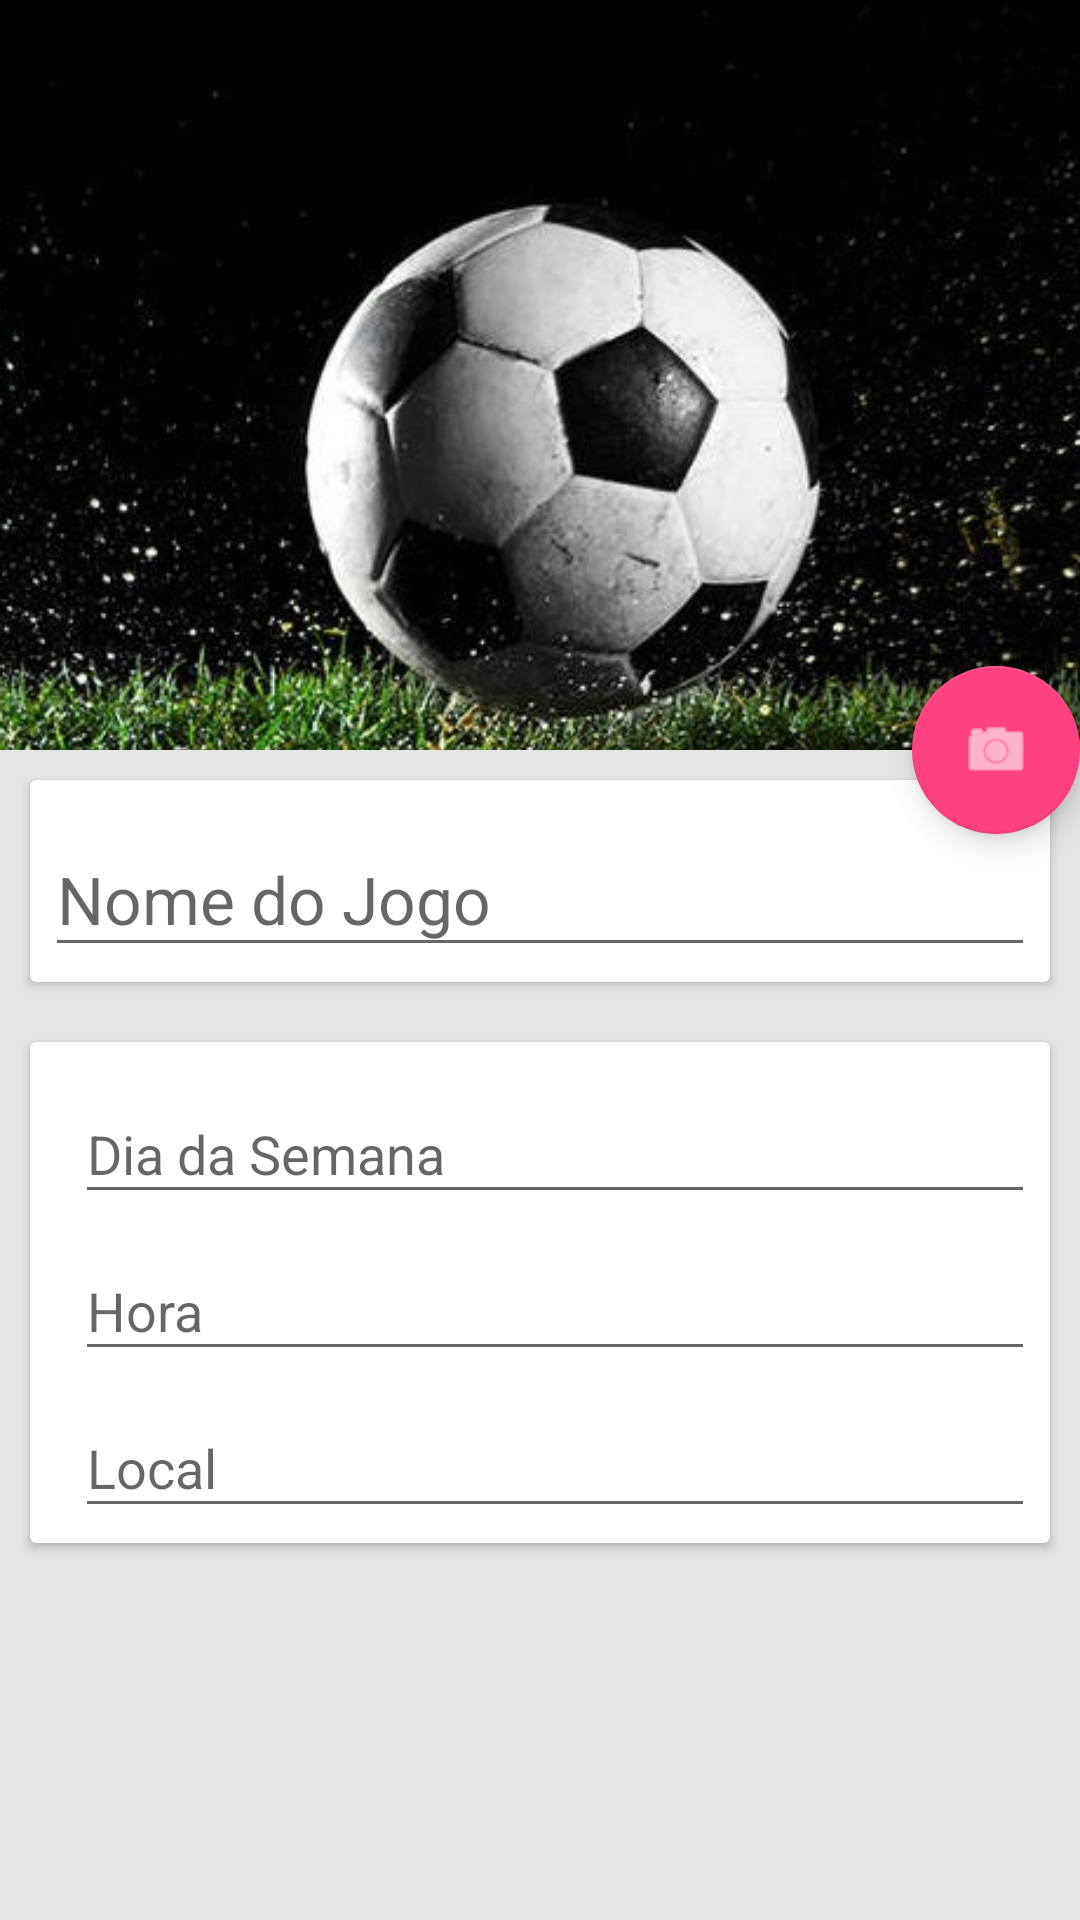

Where to tap for icons on this 1080*1920 app screen, as point (x, y):
camera: point (996, 750)
